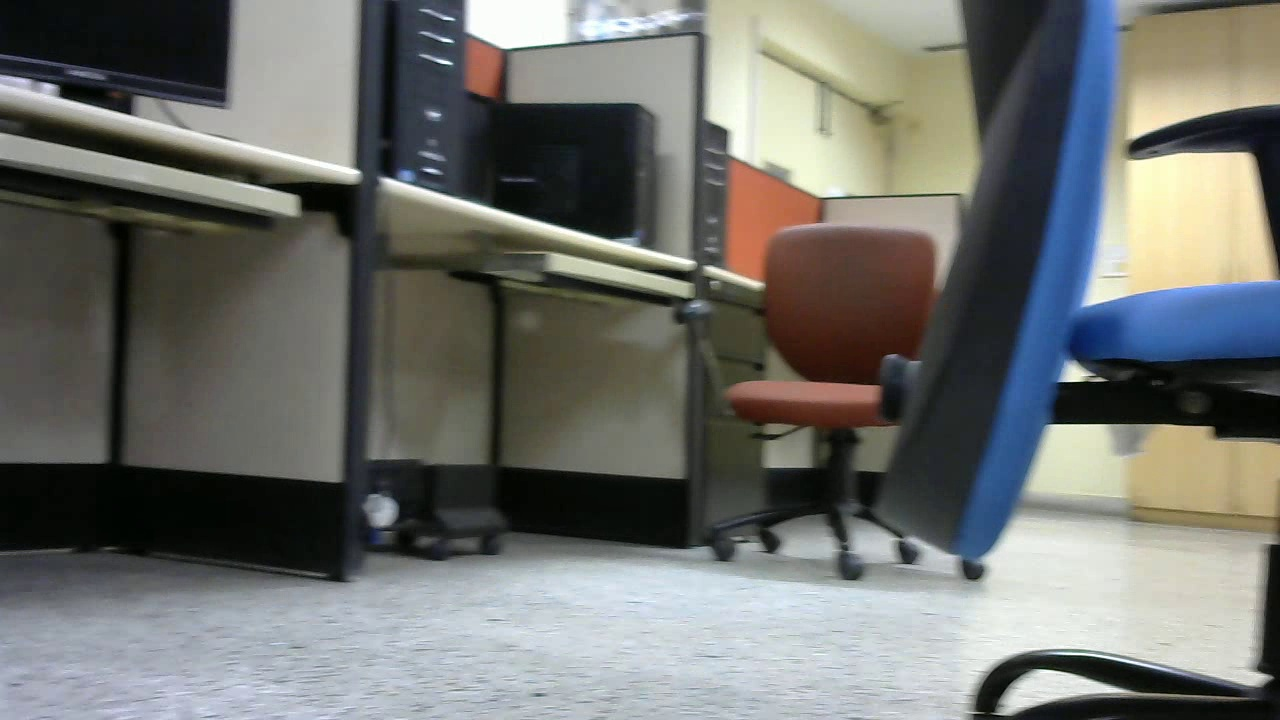chair: (616, 223, 997, 584)
